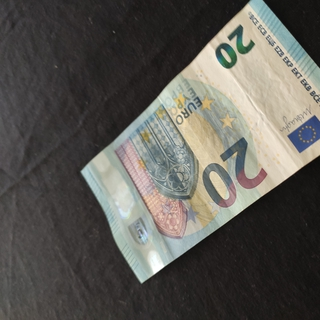20EUROFront: (79, 0, 320, 285)
